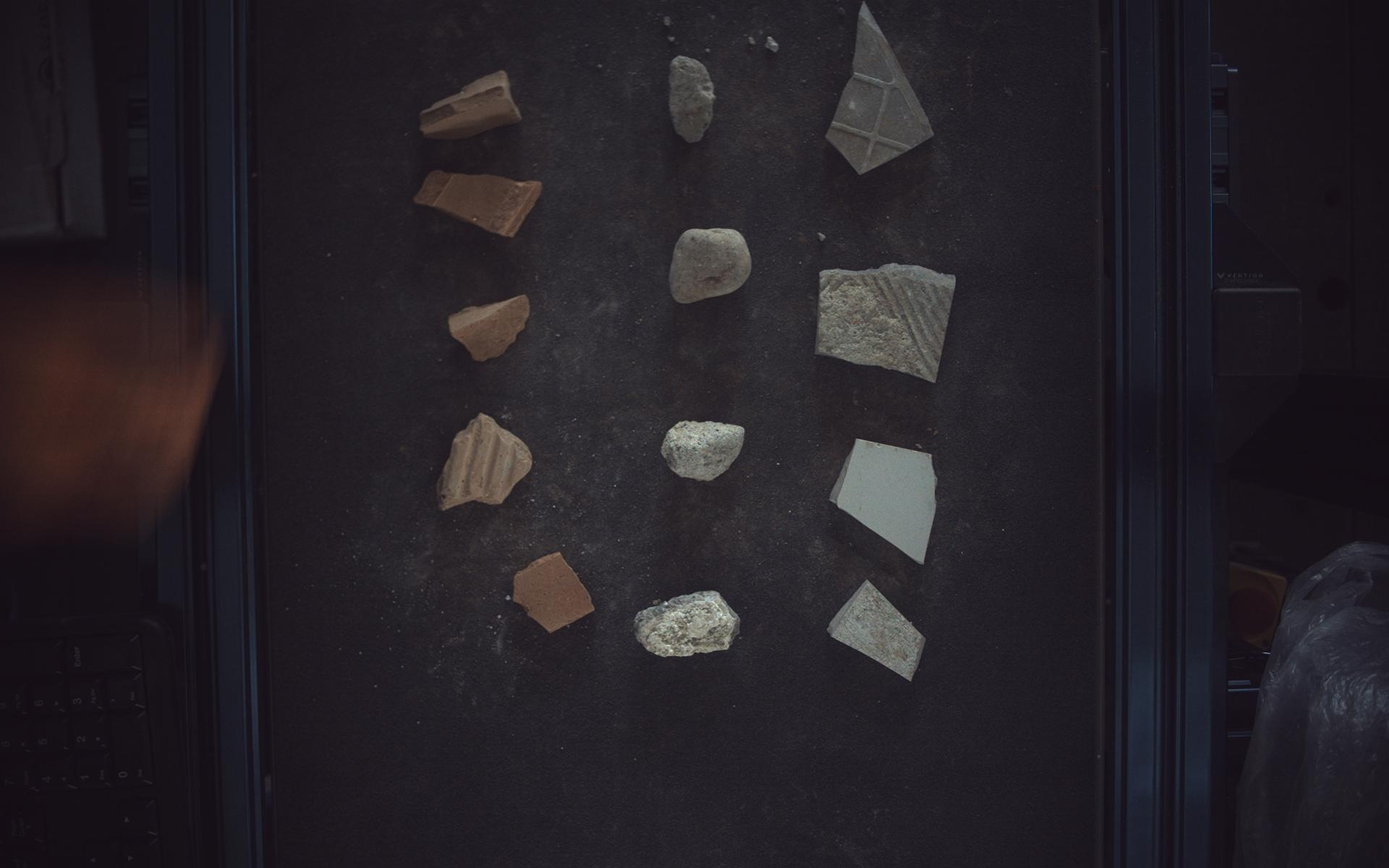brick: (436, 413, 532, 511), (413, 169, 543, 237), (420, 69, 522, 138), (513, 553, 595, 634), (449, 295, 530, 362)
concrete: (637, 592, 740, 658), (671, 228, 752, 302), (663, 421, 745, 481), (671, 54, 715, 142)
tile: (828, 1, 935, 174), (817, 263, 958, 382), (833, 440, 938, 564), (830, 581, 927, 681)
